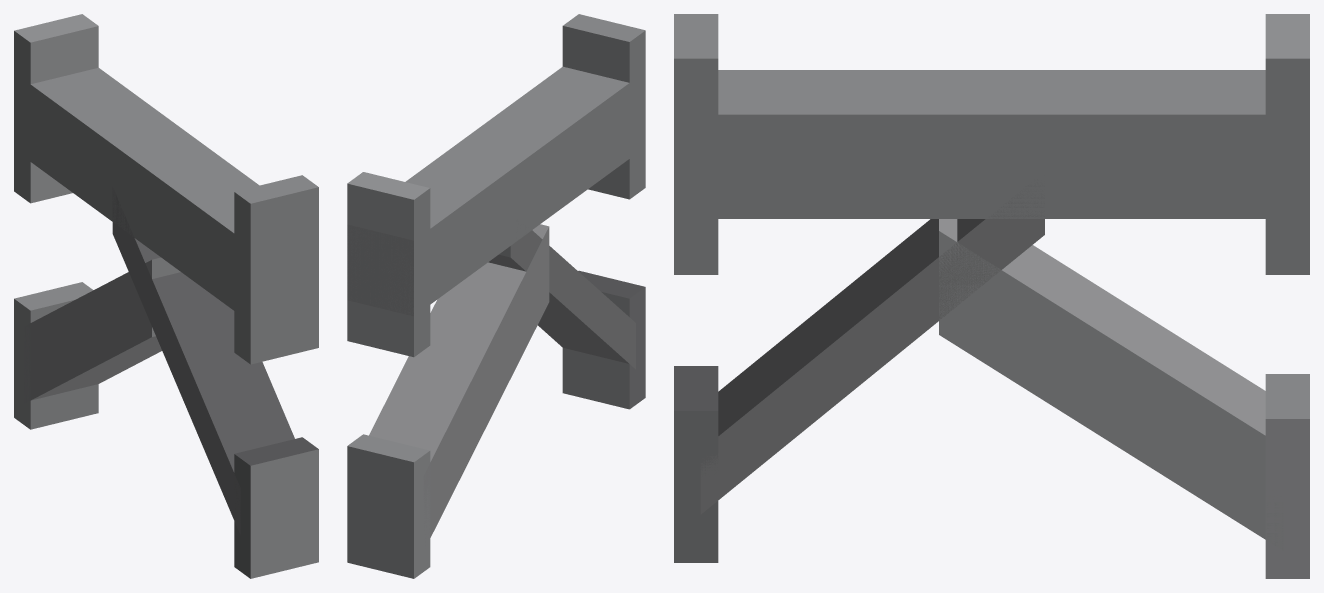
The picture shows the model from 3 angles, left to right: view 1: azimuth 30°, elevation 25°; view 2: azimuth 150°, elevation 25°; view 3: azimuth 270°, elevation 25°; orthographic projection. The views are drawn at different scales.
Bounding box in the file's own units: 0.12 × 0.65 × 0.72.
